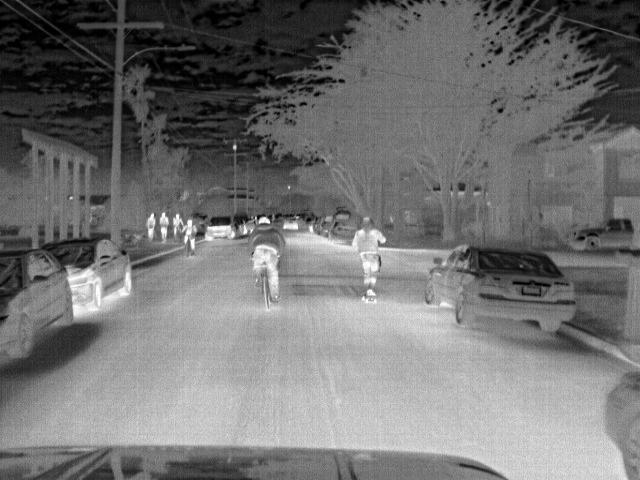car: (423, 246, 579, 334), (2, 250, 74, 368), (40, 239, 134, 312), (602, 369, 639, 479), (569, 216, 635, 253), (328, 216, 359, 244), (204, 215, 235, 240), (321, 214, 339, 236), (229, 215, 246, 236), (281, 216, 302, 230)
person: (246, 215, 282, 300), (350, 218, 385, 294), (158, 210, 171, 244), (144, 209, 157, 243), (184, 220, 198, 250), (172, 212, 184, 238)
